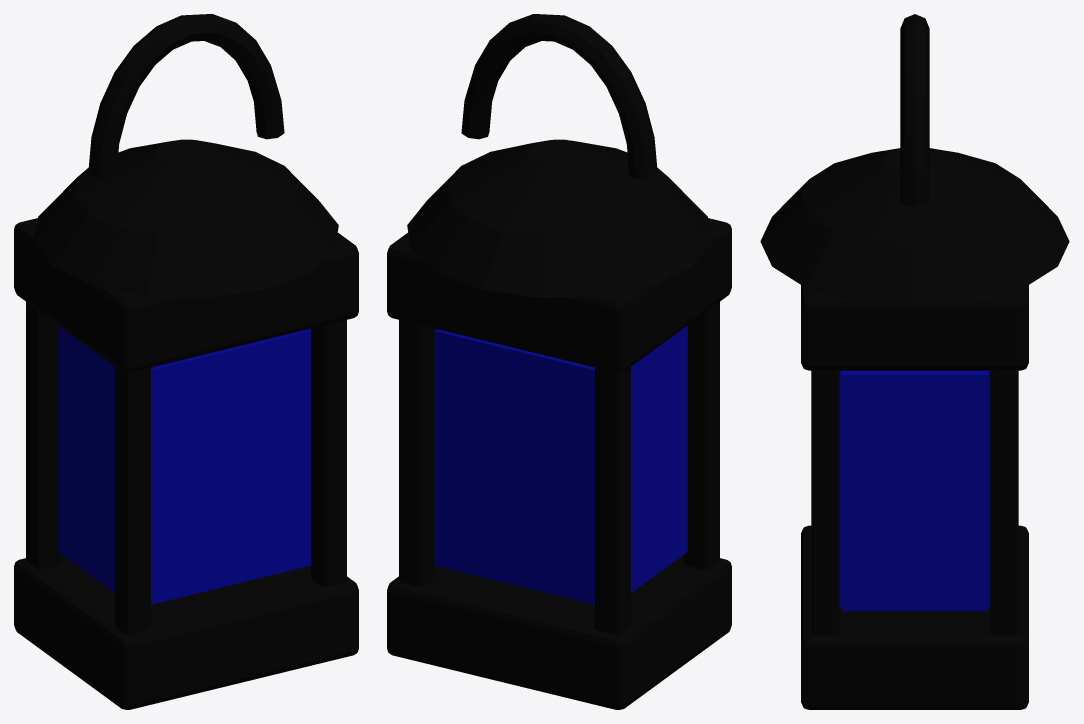
Rendered from lantern.glb.
3 renders of one model, left to right at view 1: azimuth 30°, elevation 25°; view 2: azimuth 150°, elevation 25°; view 3: azimuth 270°, elevation 25°, orthographic.
Visible parts, largest first — view 1: lamp_emission_pane_y, metal_lantern_roof, metal_lantern_base, metal_lantern_base.001, lamp_emission_pane_x, metal_lantern_handle, metal_lantern_frame, metal_lantern_frame.002, metal_lantern_frame.001; view 2: lamp_emission_pane_y.001, metal_lantern_roof, metal_lantern_base, metal_lantern_base.001, lamp_emission_pane_x, metal_lantern_handle, metal_lantern_frame.001, metal_lantern_frame.003, metal_lantern_frame; view 3: lamp_emission_pane_x.001, metal_lantern_roof, metal_lantern_base, metal_lantern_base.001, metal_lantern_frame.002, metal_lantern_frame.003, metal_lantern_handle, lamp_emission_pane_y, lamp_emission_pane_y.001.
Part boxes in pixels (x1,y1,x2,y2): lamp_emission_pane_y: (151, 329, 311, 604); metal_lantern_roof: (34, 139, 338, 297); metal_lantern_base: (14, 555, 358, 709); metal_lantern_base.001: (14, 218, 358, 372); lamp_emission_pane_x: (58, 325, 114, 592); metal_lantern_handle: (88, 14, 284, 178); metal_lantern_frame: (115, 367, 150, 634); metal_lantern_frame.002: (311, 320, 346, 586); metal_lantern_frame.001: (26, 302, 61, 569); lamp_emission_pane_y.001: (434, 329, 594, 604); metal_lantern_roof: (407, 139, 711, 297); metal_lantern_base: (387, 555, 731, 709); metal_lantern_base.001: (387, 218, 731, 372); lamp_emission_pane_x: (631, 325, 687, 592); metal_lantern_handle: (461, 14, 657, 178); metal_lantern_frame.001: (595, 367, 630, 634); metal_lantern_frame.003: (399, 320, 434, 586); metal_lantern_frame: (684, 302, 719, 569); lamp_emission_pane_x.001: (841, 371, 988, 611); metal_lantern_roof: (760, 148, 1069, 306); metal_lantern_base: (801, 525, 1028, 709); metal_lantern_base.001: (801, 285, 1028, 370); metal_lantern_frame.002: (811, 370, 839, 634); metal_lantern_frame.003: (990, 370, 1018, 634); metal_lantern_handle: (900, 14, 929, 206); lamp_emission_pane_y: (839, 370, 842, 607); lamp_emission_pane_y.001: (987, 370, 990, 607).
Size of the model in its own units: 0.38 by 0.858 by 0.38.
